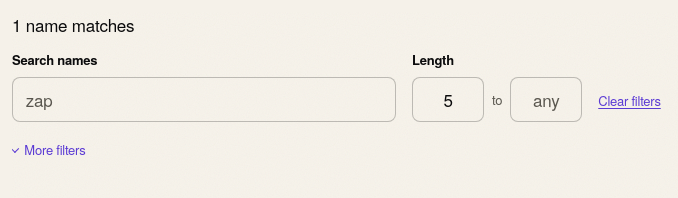
Test: Toolbar length range › stops saying so once the box is emptied out of that state
The width and height of the screenshot is (678, 198).
Clear the number field named "Shortest label length" at (448, 100), box top-left (412, 77), bottom-right (484, 122)
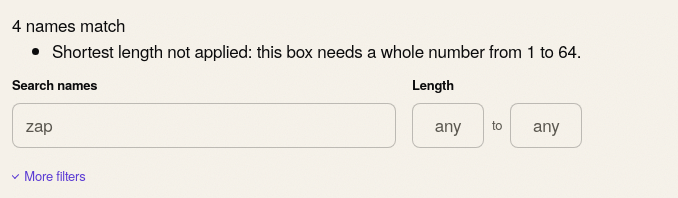
Result: the list "not applied" is shown at top-left (52, 38), bottom-right (581, 62)
Clear the number field named "Shortest label length" at (448, 125), box top-left (412, 102), bottom-right (484, 148)
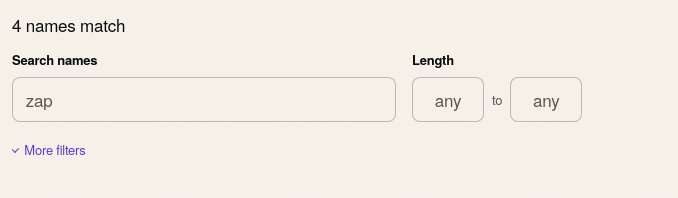
Result: the list item "not applied" is gone
